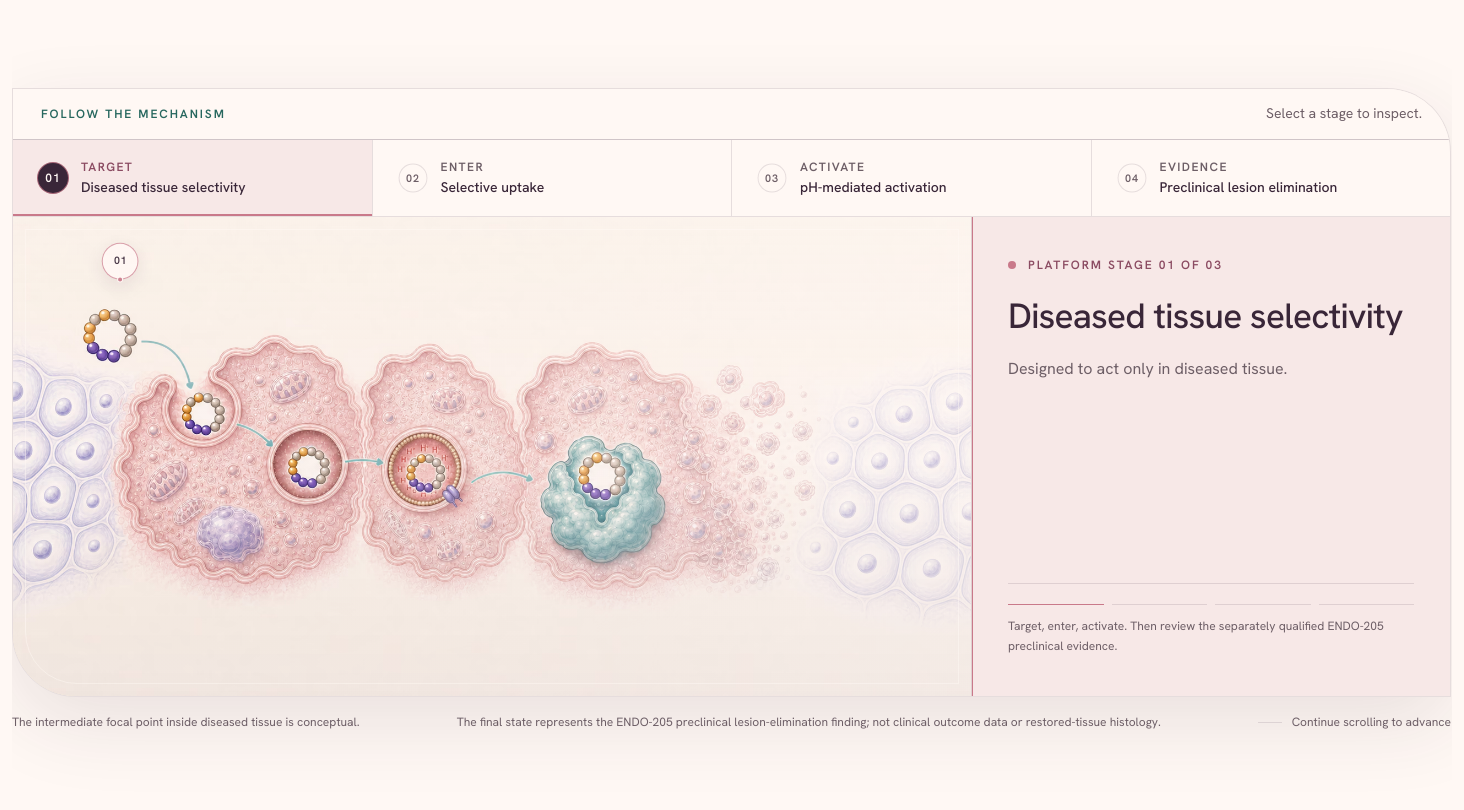
SelectiveSequence › shows only the active stage panel so copy never crossfades on top of itself
This screenshot has width=1464, height=810.
Expected: the panel shows "Designed to act only in diseased tissue.", [1008, 358, 1288, 379]
Expected: the number of panels is 1, [1008, 257, 1414, 656]
Click the tab "02 Enter Selective uptake". click: x=462, y=166
box: [372, 140, 731, 216]
(page scrolled)
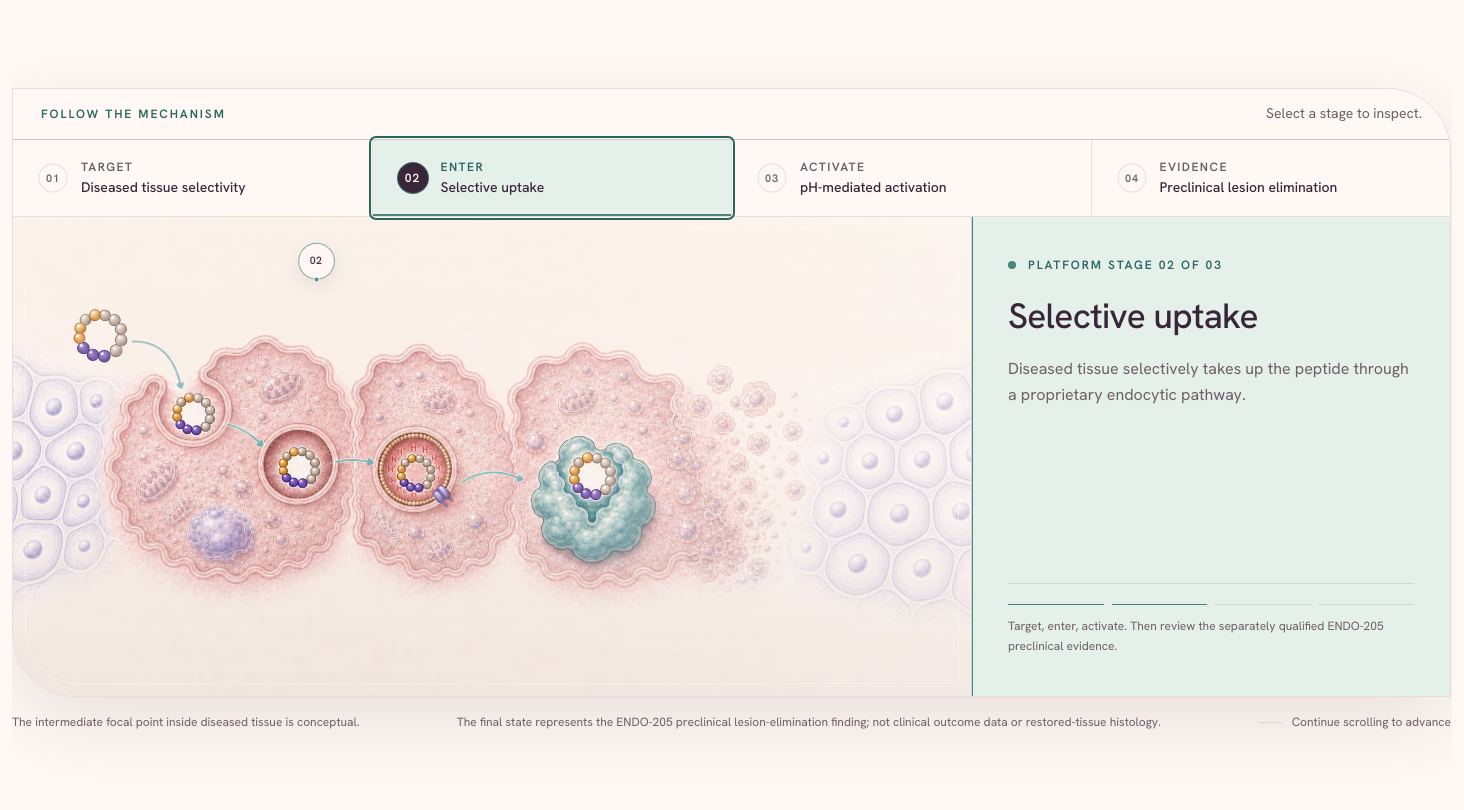
Expected: the number of panels is 1, [1008, 257, 1414, 656]
Expected: the panel shows "Diseased tissue selectively takes up the peptide through a proprietary endocytic pathway.", [1008, 358, 1409, 405]
